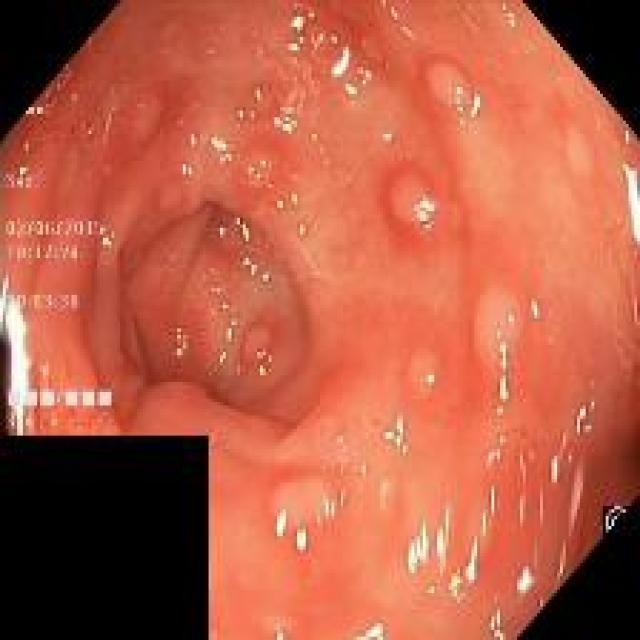Polyps: (271, 476, 338, 536), (475, 290, 520, 378), (225, 144, 289, 205), (112, 85, 166, 148), (426, 65, 481, 124), (390, 174, 436, 232), (564, 125, 594, 176), (408, 349, 438, 397), (242, 327, 271, 373), (312, 415, 338, 446), (159, 188, 181, 212)
